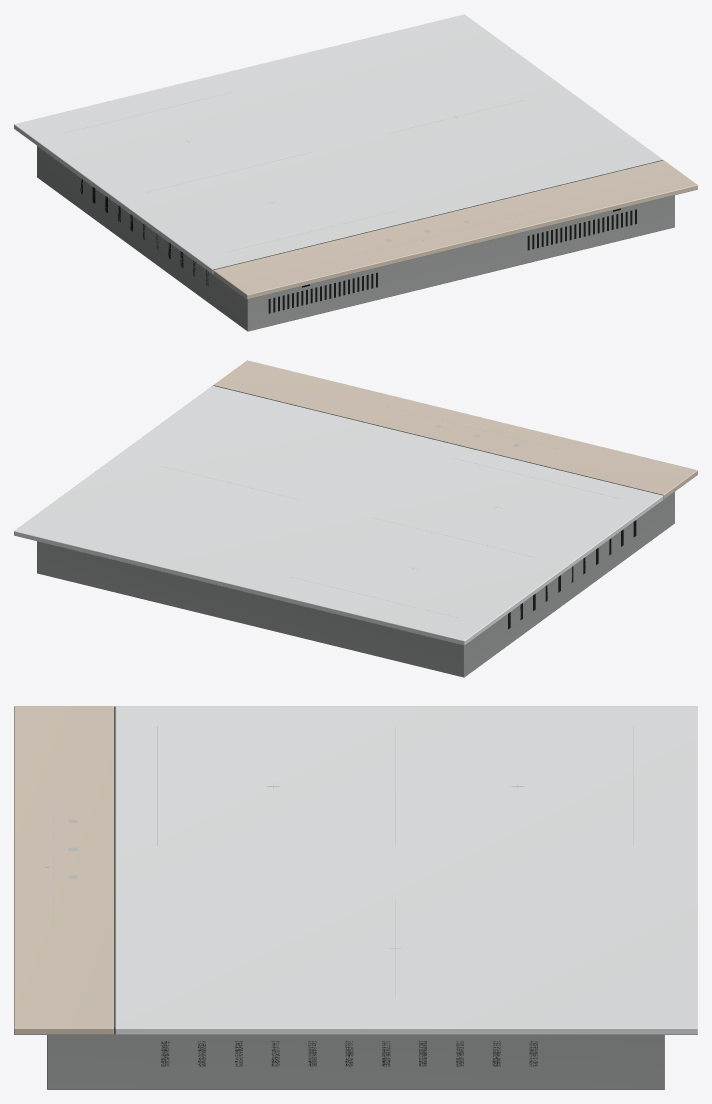
Rendered from BEF3WBQT-b70-25001c.glb.
3 views of the same model, one above another, from view 1: azimuth 30°, elevation 25°; view 2: azimuth 150°, elevation 25°; view 3: azimuth 270°, elevation 25° (orthographic). The views are drawn at different scales.
Parts seen in each view (by area): view 1: CeramicGlass, LowerCase, ControlGlass, B68_FrontSlot_200, ControlSeam, SliderTick_0; view 2: CeramicGlass, LowerCase, ControlGlass, ControlSeam, B68_FrontSlot_200, SliderTick_0; view 3: CeramicGlass, LowerCase, ControlGlass, B68_FrontSlot_200, SliderTick_0, ControlSeam.
Boxes of the visible parts, box(x1,y1,x2,y2) form: CeramicGlass: box(14, 14, 662, 273); LowerCase: box(37, 146, 674, 331); ControlGlass: box(213, 160, 697, 299); B68_FrontSlot_200: box(80, 179, 636, 313); ControlSeam: box(213, 160, 662, 269); SliderTick_0: box(64, 92, 536, 254); CeramicGlass: box(14, 385, 663, 645); LowerCase: box(37, 492, 674, 677); ControlGlass: box(213, 360, 697, 499); ControlSeam: box(213, 385, 663, 495); B68_FrontSlot_200: box(508, 520, 636, 629); SliderTick_0: box(161, 405, 620, 617); CeramicGlass: box(115, 706, 697, 1034); LowerCase: box(47, 1034, 664, 1089); ControlGlass: box(14, 706, 113, 1034); B68_FrontSlot_200: box(161, 1041, 537, 1066); SliderTick_0: box(45, 726, 633, 997); ControlSeam: box(114, 706, 115, 1034).
Size of the model in its own units: 0.58 by 0.059 by 0.52.
